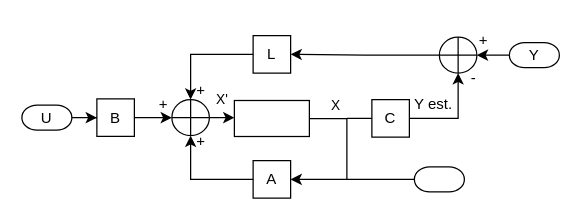
The diagram is 581 pixels wide and 220 high, and some of its shapes have lost their labels. The centre of each missing label's shape, as x and y in pixels:
"Integrador" goes at point (271, 117).
"Out" goes at point (438, 179).
